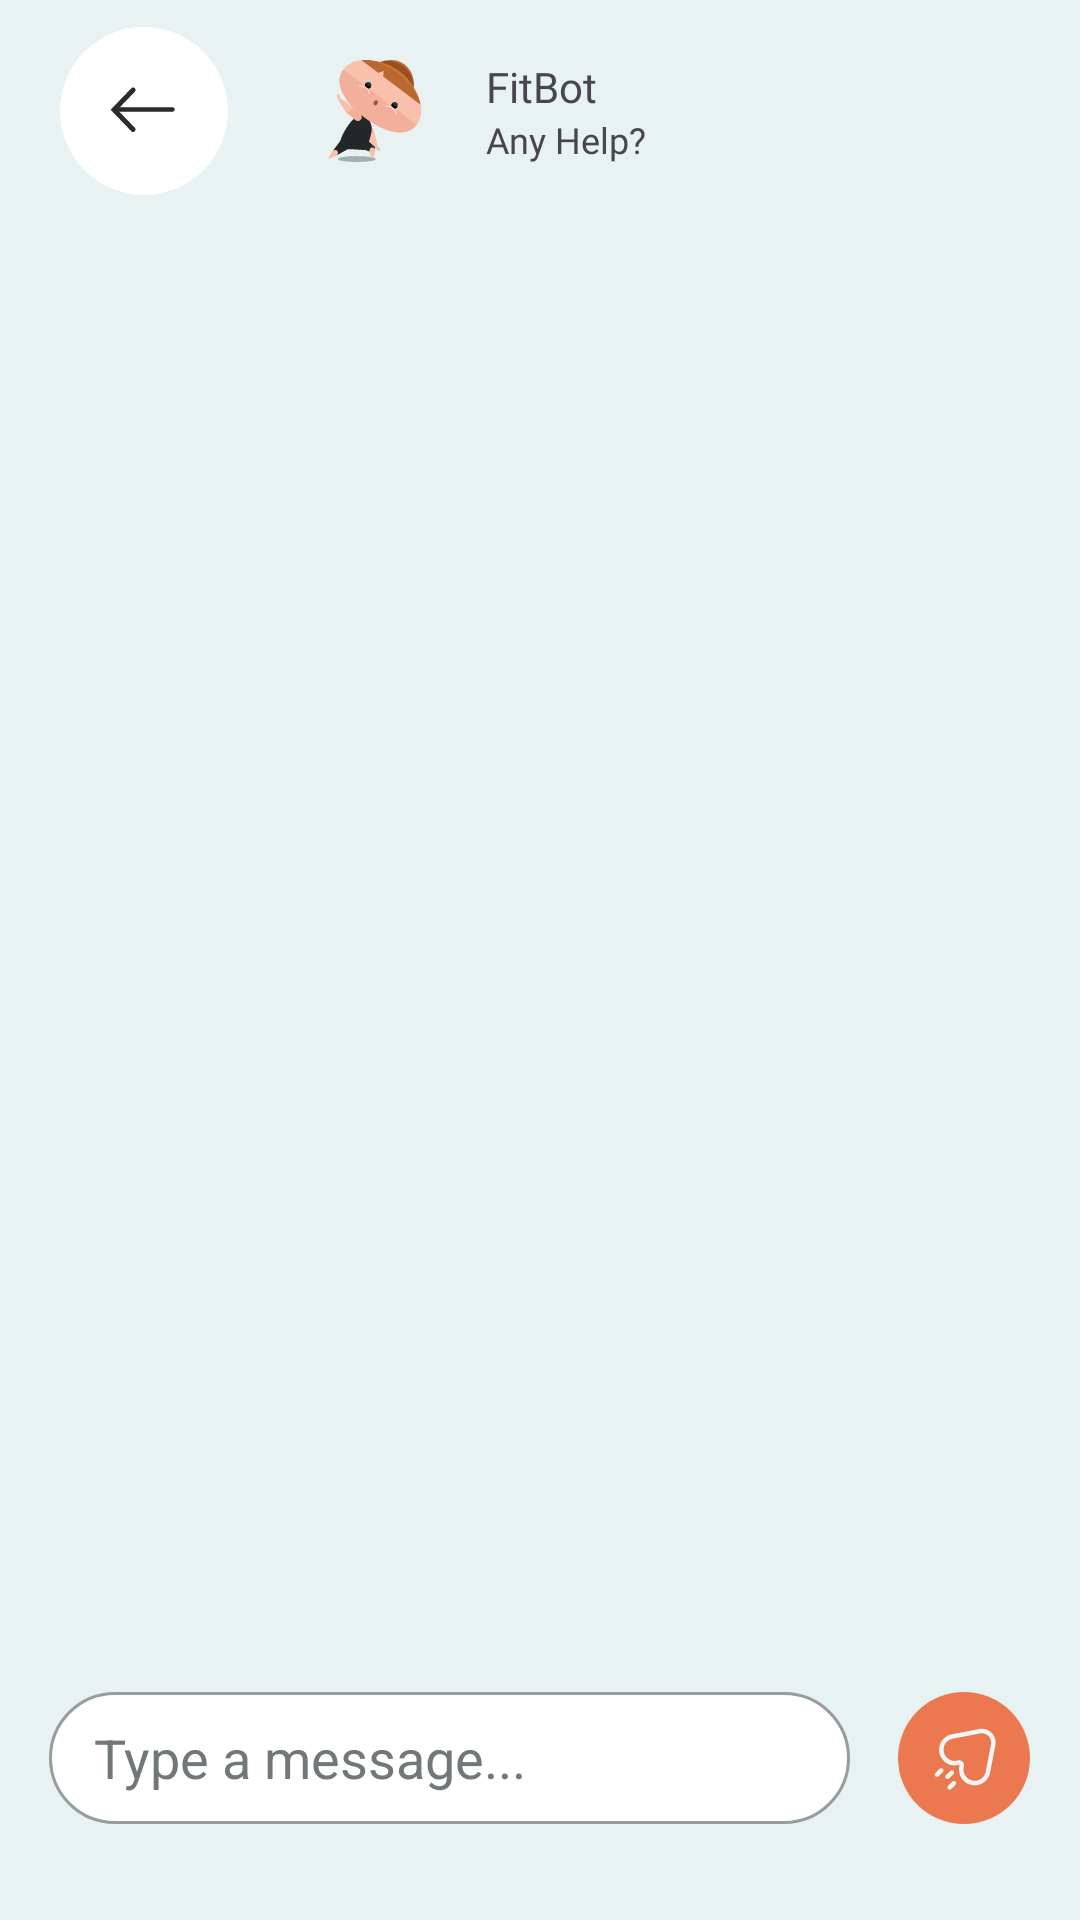

Where to tap for icons on this 1080x1920 app screen, as [x,y]:
chat send: [964,1758]
